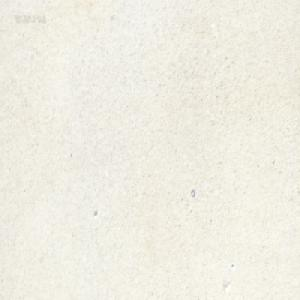Washer: (190, 187, 195, 197)
